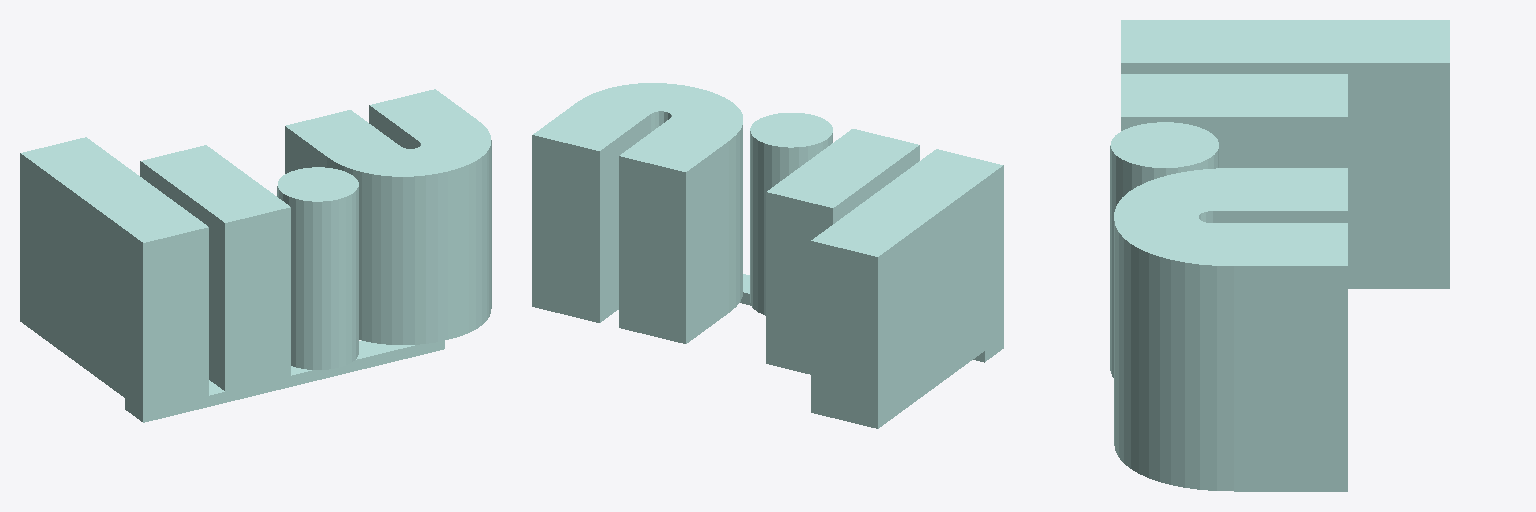
robot.urdf — logo_urdf:
<?xml version="1.0" encoding="utf-8"?>
<!-- This URDF was automatically created by SolidWorks to URDF Exporter! Originally created by [author] ([email redacted]) 
     Commit Version: 1.6.0-4-g7f85cfe  Build Version: 1.6.7995.38578
     For more information, please see http://wiki.ros.org/sw_urdf_exporter -->
<robot
  name="logo_urdf">
  <link
    name="L_logo">
    <inertial>
      <origin
        xyz="0.3065 0.75 -0.992"
        rpy="0 0 0" />
      <mass
        value="1824.288" />
      <inertia
        ixx="940.459382144"
        ixy="9.2034491139259E-15"
        ixz="-9.46667337113164E-14"
        iyy="655.5312886"
        iyz="0"
        izz="399.179906456" />
    </inertial>
    <visual>
      <origin
        xyz="0 0 0"
        rpy="0 0 0" />
      <geometry>
        <mesh
          filename="package://logo_urdf/meshes/L_logo.STL" />
      </geometry>
      <material
        name="">
        <color
          rgba="0.8 0.9607843137254902 0.9411764705882353 1" />
      </material>
    </visual>
    <collision>
      <origin
        xyz="0 0 0"
        rpy="0 0 0" />
      <geometry>
        <mesh
          filename="package://logo_urdf/meshes/L_logo.STL" />
      </geometry>
    </collision>
  </link>
  <link
    name="Base_logo">
    <inertial>
      <origin
        xyz="1.59816863108292 0.738976237325327 -0.743198804251725"
        rpy="0 0 0" />
      <mass
        value="6113.33915549822" />
      <inertia
        ixx="2620.3510164548"
        ixy="-13.0852970044327"
        ixz="-687.554411864084"
        iyy="8971.78912525507"
        iyz="39.9768538161322"
        izz="8718.83473556337" />
    </inertial>
    <visual>
      <origin
        xyz="0 0 0"
        rpy="0 0 0" />
      <geometry>
        <mesh
          filename="package://logo_urdf/meshes/Base_logo.STL" />
      </geometry>
      <material
        name="">
        <color
          rgba="0.8 0.9607843137254902 0.9411764705882353 0" />
      </material>
    </visual>
    <collision>
      <origin
        xyz="0 0 0"
        rpy="0 0 0" />
      <geometry>
        <mesh
          filename="package://logo_urdf/meshes/Base_logo.STL" />
      </geometry>
    </collision>
  </link>
  <joint
    name="base_logo"
    type="fixed">
    <origin
      xyz="0 0 0"
      rpy="1.5707963267949 0 0" />
    <parent
      link="L_logo" />
    <child
      link="Base_logo" />
    <axis
      xyz="0 0 0" />
  </joint>
  <link
    name="I_logo">
    <inertial>
      <origin
        xyz="1.0695 0.75 -0.685"
        rpy="0 0 0" />
      <mass
        value="1259.715" />
      <inertia
        ixx="433.226486125"
        ixy="-4.58658492846533E-31"
        ixz="-5.55111512312578E-15"
        iyy="236.47674411125"
        iyz="0"
        izz="275.64338298625" />
    </inertial>
    <visual>
      <origin
        xyz="0 0 0"
        rpy="0 0 0" />
      <geometry>
        <mesh
          filename="package://logo_urdf/meshes/I_logo.STL" />
      </geometry>
      <material
        name="">
        <color
          rgba="0.8 0.9607843137254902 0.9411764705882353 1" />
      </material>
    </visual>
    <collision>
      <origin
        xyz="0 0 0"
        rpy="0 0 0" />
      <geometry>
        <mesh
          filename="package://logo_urdf/meshes/I_logo.STL" />
      </geometry>
    </collision>
  </link>
  <joint
    name="i_logo"
    type="fixed">
    <origin
      xyz="0 0 0"
      rpy="1.5707963267949 0 0" />
    <parent
      link="L_logo" />
    <child
      link="I_logo" />
    <axis
      xyz="0 0 0" />
  </joint>
  <link
    name="Dot_logo">
    <inertial>
      <origin
        xyz="-0.621263013570749 0.75 -1.6891383211475"
        rpy="0 0 0" />
      <mass
        value="510.073695625819" />
      <inertia
        ixx="109.4415396519"
        ixy="1.97831282738914E-31"
        ixz="0"
        iyy="27.6054434441171"
        iyz="-2.2201637408111E-31"
        izz="109.4415396519" />
    </inertial>
    <visual>
      <origin
        xyz="0 0 0"
        rpy="0 0 0" />
      <geometry>
        <mesh
          filename="package://logo_urdf/meshes/Dot_logo.STL" />
      </geometry>
      <material
        name="">
        <color
          rgba="0.8 0.9607843137254902 0.9411764705882353 1" />
      </material>
    </visual>
    <collision>
      <origin
        xyz="0 0 0"
        rpy="0 0 0" />
      <geometry>
        <mesh
          filename="package://logo_urdf/meshes/Dot_logo.STL" />
      </geometry>
    </collision>
  </link>
  <joint
    name="dot_logo"
    type="fixed">
    <origin
      xyz="0 0 0"
      rpy="1.5707963267949 0 -1.77489823356395" />
    <parent
      link="L_logo" />
    <child
      link="Dot_logo" />
    <axis
      xyz="0 0 0" />
  </joint>
  <link
    name="U_logo">
    <inertial>
      <origin
        xyz="2.80799597517163 0.75 -0.707390713926031"
        rpy="0 0 0" />
      <mass
        value="2435.0224598724" />
      <inertia
        ixx="817.238672131539"
        ixy="0.000115381507157211"
        ixz="0.00110773544684508"
        iyy="750.205632880394"
        iyz="-5.11244815823484E-14"
        izz="846.103053480615" />
    </inertial>
    <visual>
      <origin
        xyz="0 0 0"
        rpy="0 0 0" />
      <geometry>
        <mesh
          filename="package://logo_urdf/meshes/U_logo.STL" />
      </geometry>
      <material
        name="">
        <color
          rgba="0.8 0.9607843137254902 0.9411764705882353 1" />
      </material>
    </visual>
    <collision>
      <origin
        xyz="0 0 0"
        rpy="0 0 0" />
      <geometry>
        <mesh
          filename="package://logo_urdf/meshes/U_logo.STL" />
      </geometry>
    </collision>
  </link>
  <joint
    name="u_logo"
    type="fixed">
    <origin
      xyz="0 0 0"
      rpy="1.5707963267949 0 0" />
    <parent
      link="L_logo" />
    <child
      link="U_logo" />
    <axis
      xyz="0 0 0" />
  </joint>
</robot>

--- Render facts (derived) ---
Views: 3 orthographic renders of the robot side by side, from view 1: azimuth 30°, elevation 25°; view 2: azimuth 150°, elevation 25°; view 3: azimuth 270°, elevation 25°.
Robot: logo_urdf — 5 links, 4 joints (4 fixed); root link L_logo; default pose: all joints at 0.
Visible links, largest first — view 1: L_logo, U_logo, I_logo, Dot_logo, Base_logo; view 2: U_logo, L_logo, I_logo, Dot_logo; view 3: U_logo, L_logo, I_logo, Dot_logo.
Boxes of the visible links, x1,y1,x2,y2 form: L_logo: (20,137,208,411); U_logo: (285,89,491,344); I_logo: (140,145,290,391); Dot_logo: (277,167,358,369); Base_logo: (125,340,444,422); U_logo: (532,83,742,343); L_logo: (811,149,1003,428); I_logo: (766,129,919,374); Dot_logo: (750,113,832,315); U_logo: (1114,168,1347,491); L_logo: (1121,20,1449,288); I_logo: (1121,74,1347,167); Dot_logo: (1110,122,1218,377).
Bounding box of the posed robot: 3.51 × 2.05 × 1.6 m (x, y, z).
Meshes: 5 distinct files referenced, 5 mesh visuals loaded (5 binary STL).